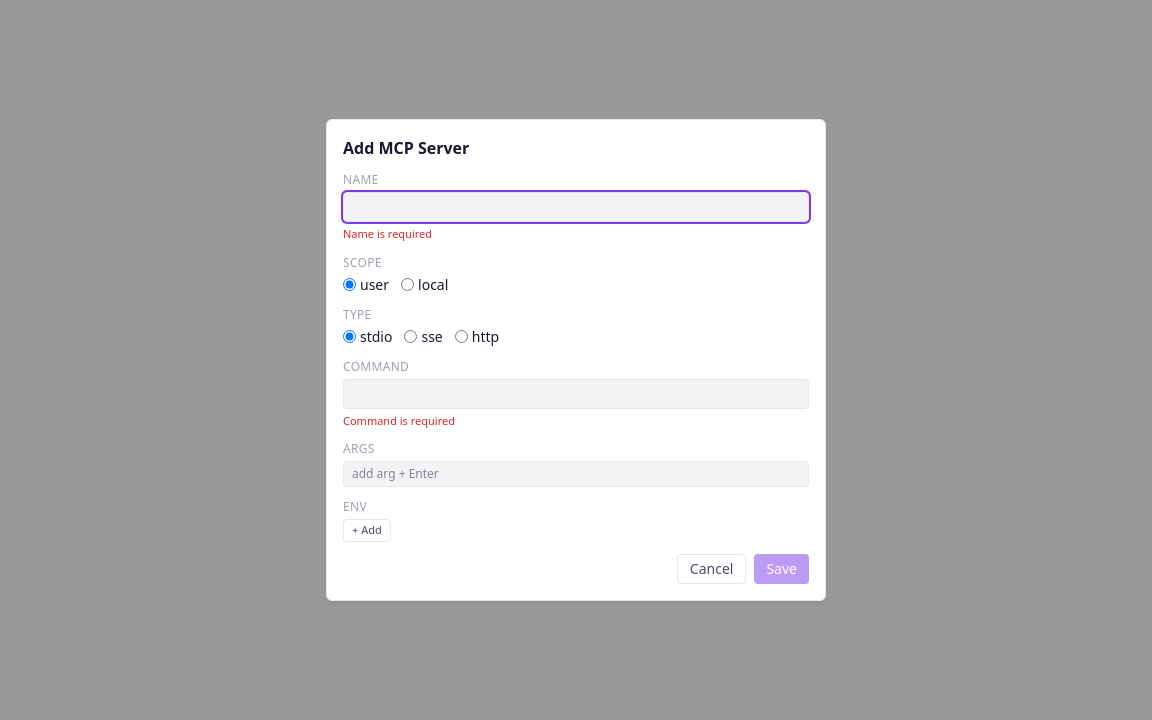
Test case: McpServerForm › type radio swaps fields between stdio and http
Check: the field with test id "form-command" is shown, box [343, 379, 809, 409]
Click the radio button with test id "form-type-http".
click(461, 337)  # box [455, 330, 468, 343]
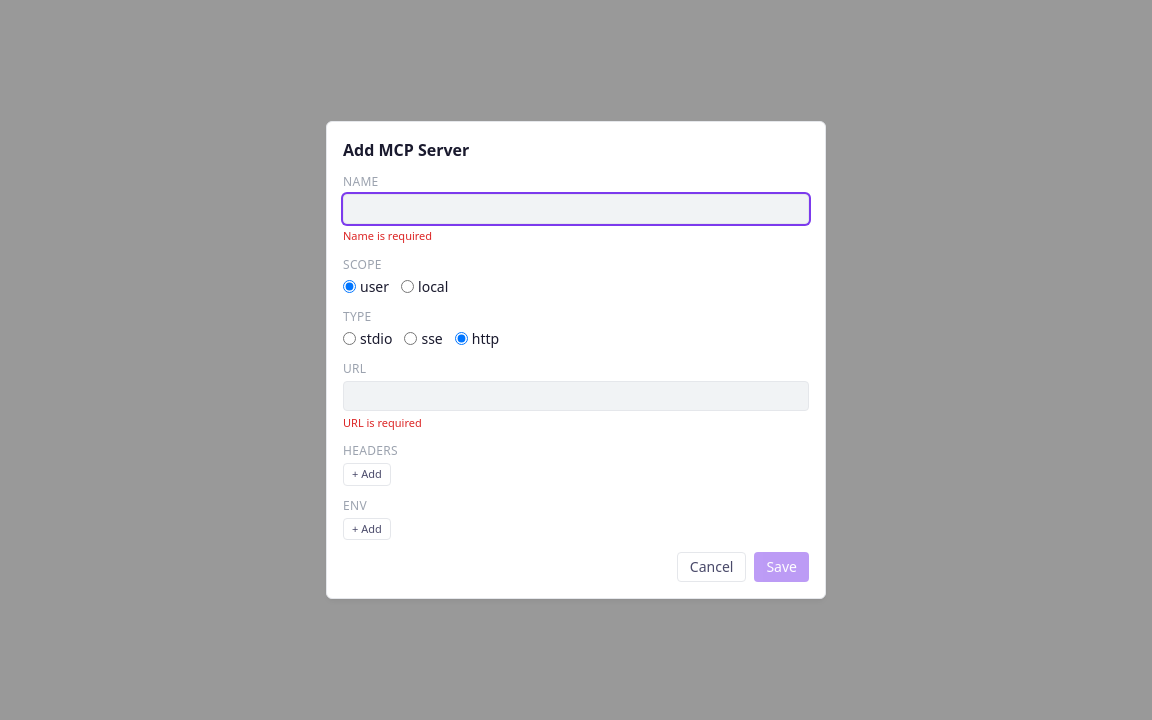
Check: the field with test id "form-url" is shown, box [343, 380, 809, 410]
